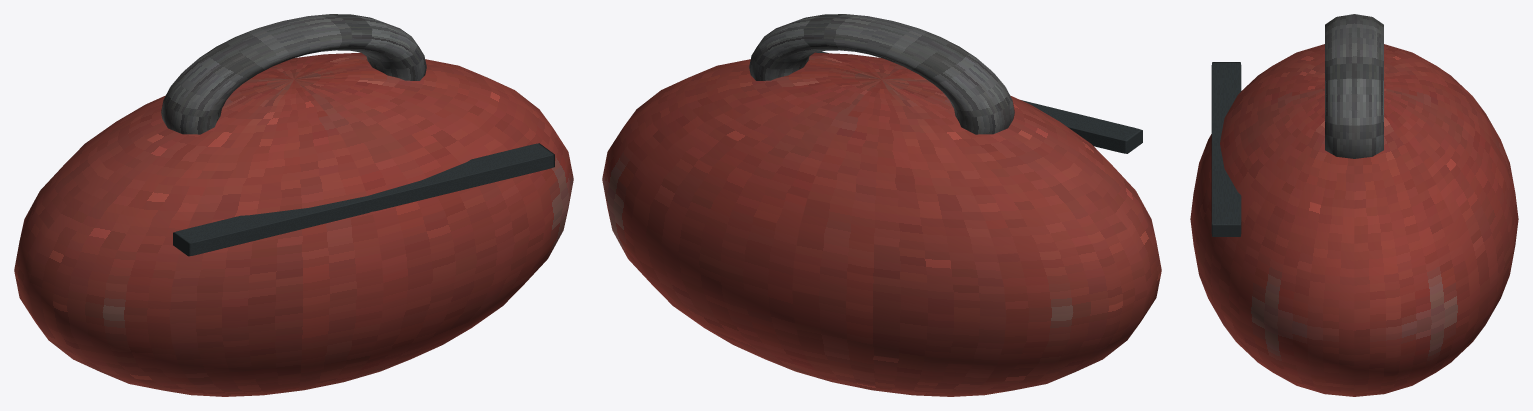
The model's file is ems-bag.glb.
3 views of the same model, side by side, from view 1: azimuth 30°, elevation 25°; view 2: azimuth 150°, elevation 25°; view 3: azimuth 270°, elevation 25° (orthographic). The views are drawn at different scales.
Visible parts, largest first — view 1: soft-body, strap, zip; view 2: soft-body, strap, zip; view 3: soft-body, strap, zip.
Part boxes in pixels (x1,y1,x2,y2): soft-body: (14,52,573,396); strap: (161,14,426,134); zip: (173,143,554,256); soft-body: (602,52,1161,396); strap: (749,14,1014,134); zip: (816,51,1142,153); soft-body: (1190,44,1518,396); strap: (1325,14,1383,158); zip: (1211,62,1241,236).
Size of the model in its own units: 0.53 by 0.3283 by 0.31.
3 materials, 3 textured.
